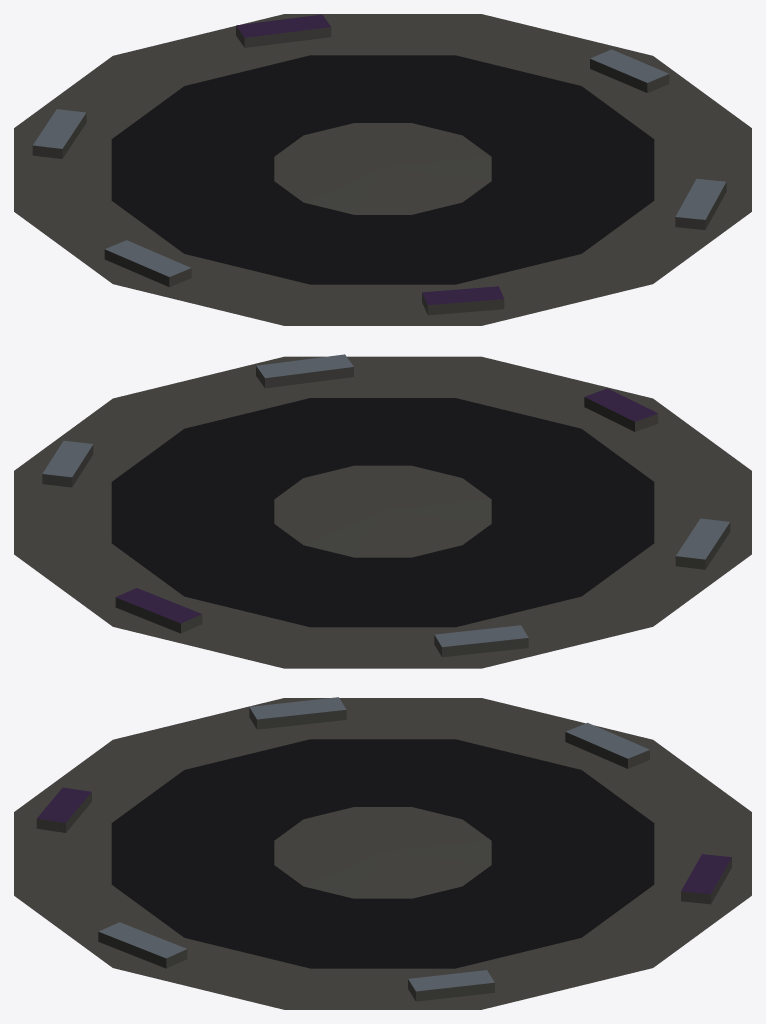
The model's file is ritual-ring.glb.
3 views of the same model, one above another, from view 1: azimuth 30°, elevation 25°; view 2: azimuth 150°, elevation 25°; view 3: azimuth 270°, elevation 25° (orthographic).
Visible parts, largest first — view 1: RitualRing; view 2: RitualRing; view 3: RitualRing.
Part boxes in pixels (<box>): RitualRing: <box>14,14,751,325</box>; RitualRing: <box>14,354,751,668</box>; RitualRing: <box>14,697,751,1009</box>.
Size of the model in its own units: 1.31 by 0.02 by 1.31.
Materials: 1 (1 with a texture image).
